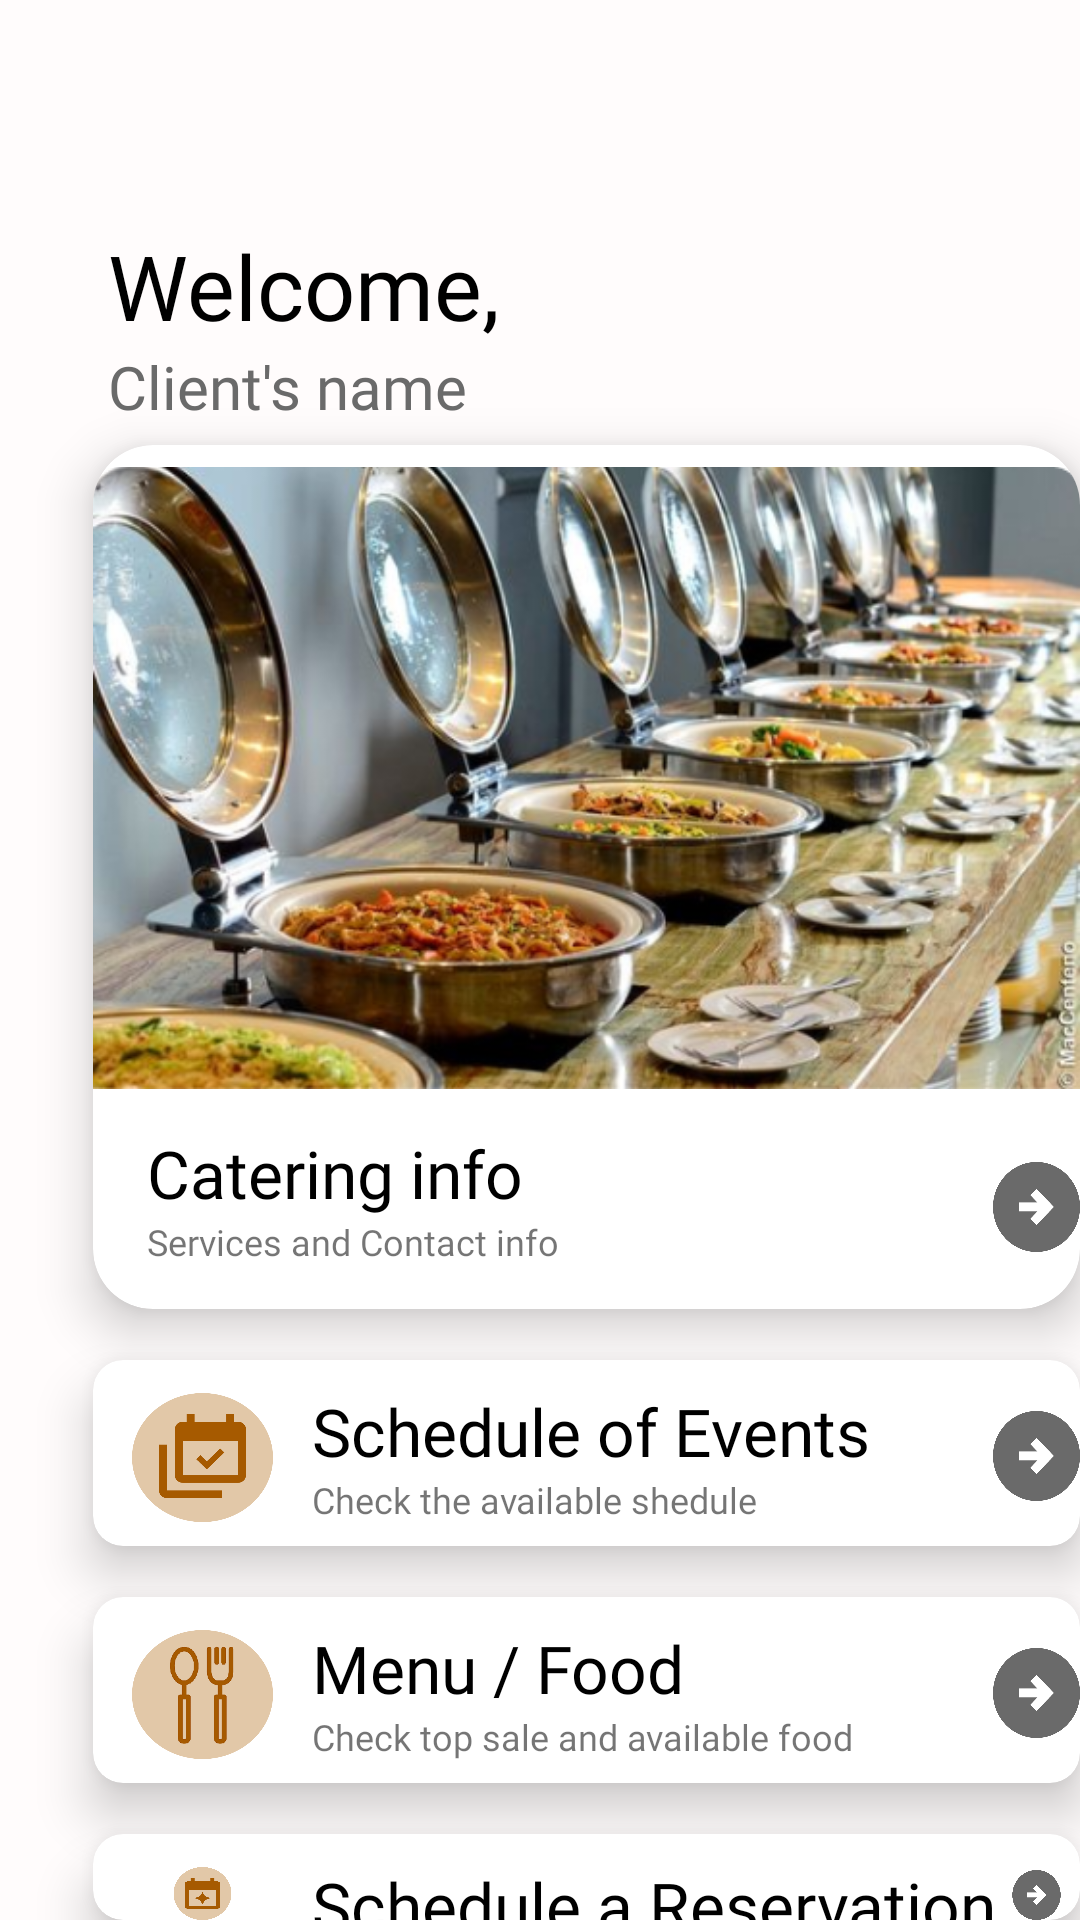

Screen size 1080px x 1920px. Icon name, then its box in pixels as box(x1, y1, x2, y2):
arrowicon: box(993, 1162, 1080, 1252), box(993, 1411, 1080, 1501), box(993, 1648, 1080, 1738), box(1012, 1870, 1080, 1920)
menuorfoodicon: box(132, 1630, 273, 1759)
